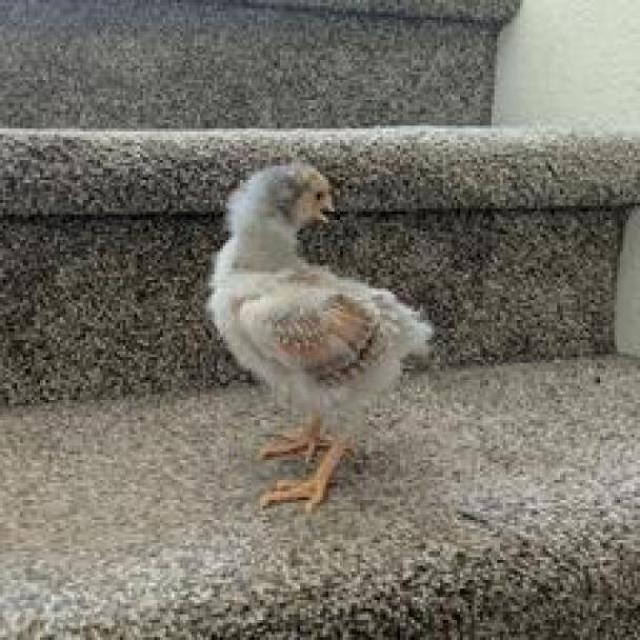Chicken: (213, 151, 481, 511)
